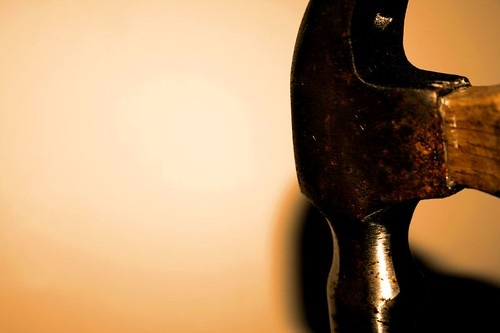hammer: (287, 1, 500, 329)
